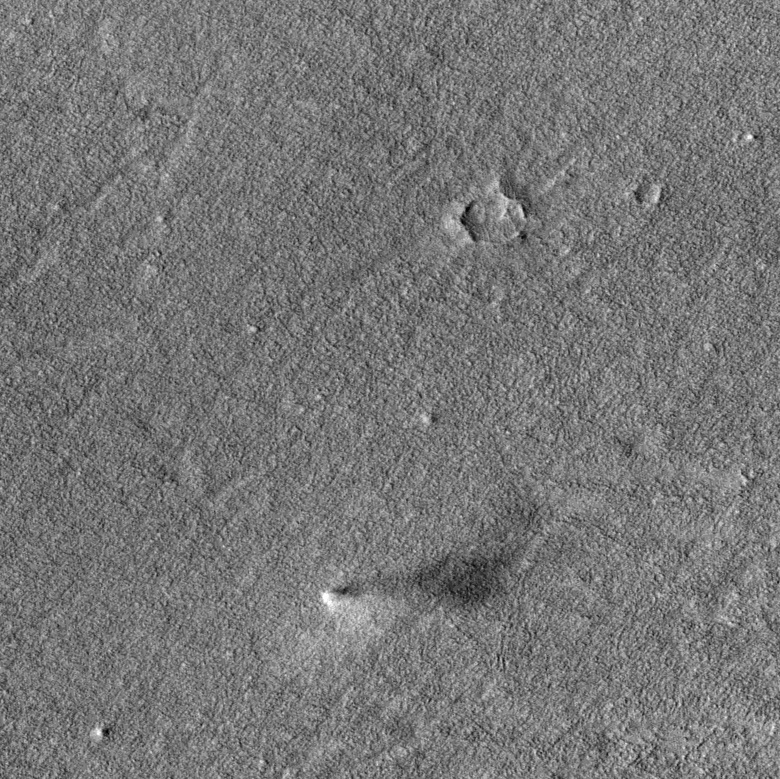dust_devil: (317, 504, 547, 617)
